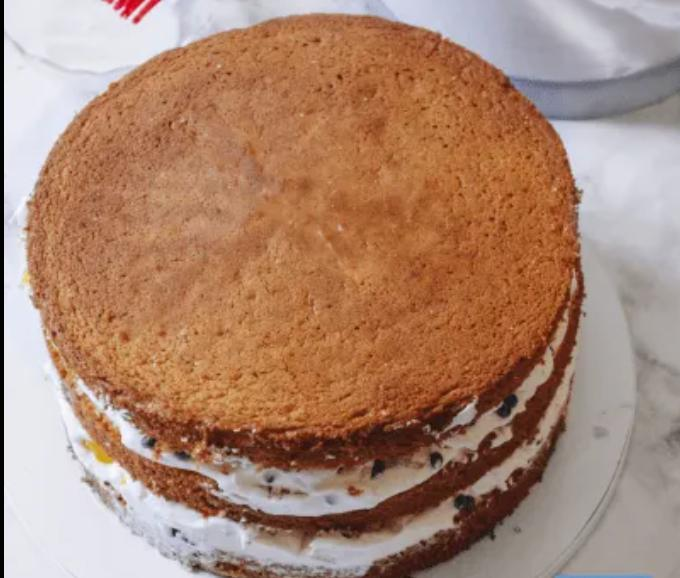Chocolate Cake: (19, 20, 624, 478)
